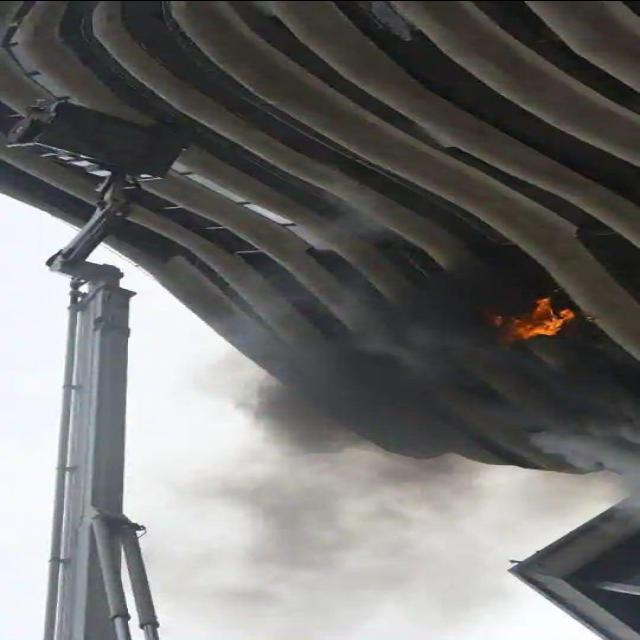Fire: (480, 282, 583, 358)
